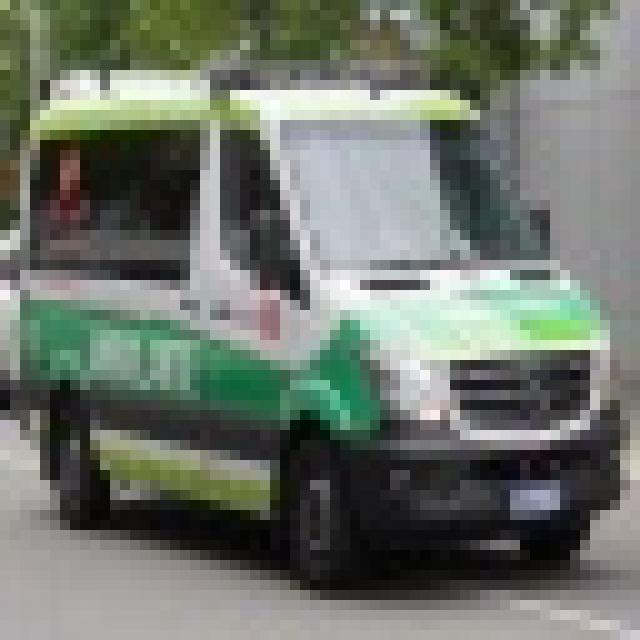Ambulance: (10, 50, 620, 580)
